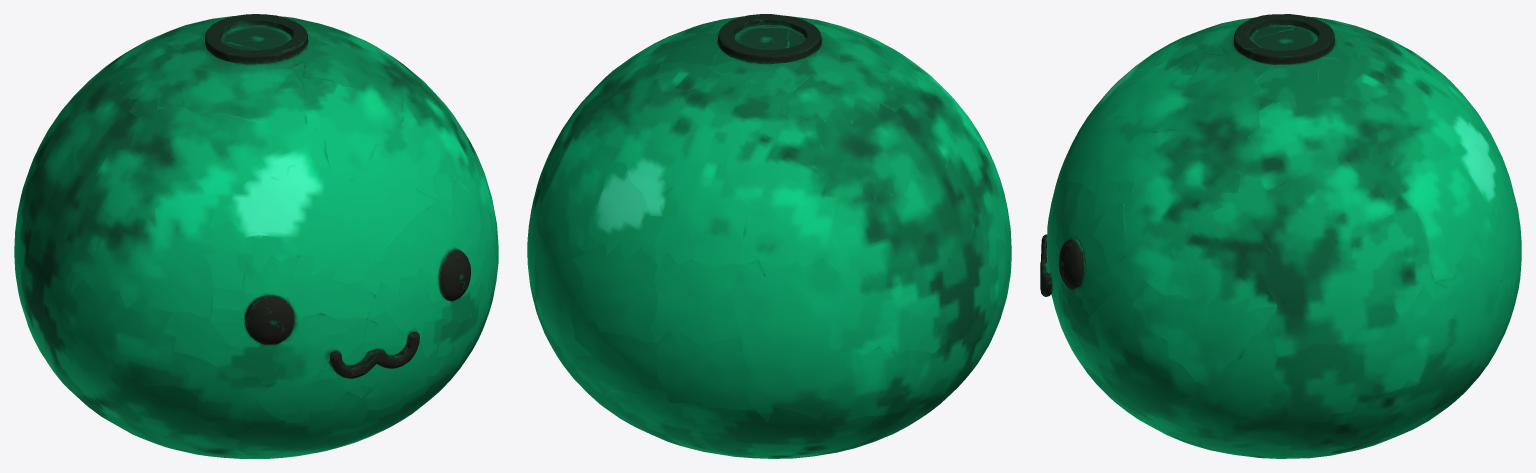
The model's file is slime.glb.
3 views of the same model, side by side, from view 1: azimuth 30°, elevation 25°; view 2: azimuth 150°, elevation 25°; view 3: azimuth 270°, elevation 25° (orthographic).
Size of the model in its own units: 1.9 by 1.66 by 1.9.
1 material, 1 textured.
